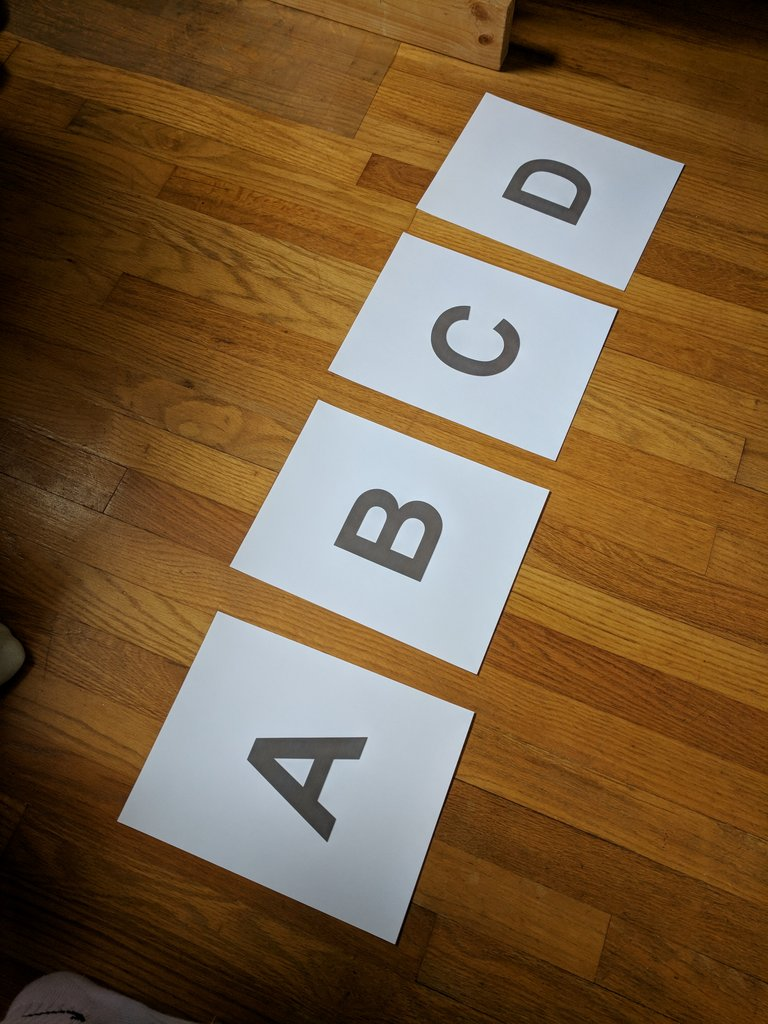home: (334, 487, 446, 587)
